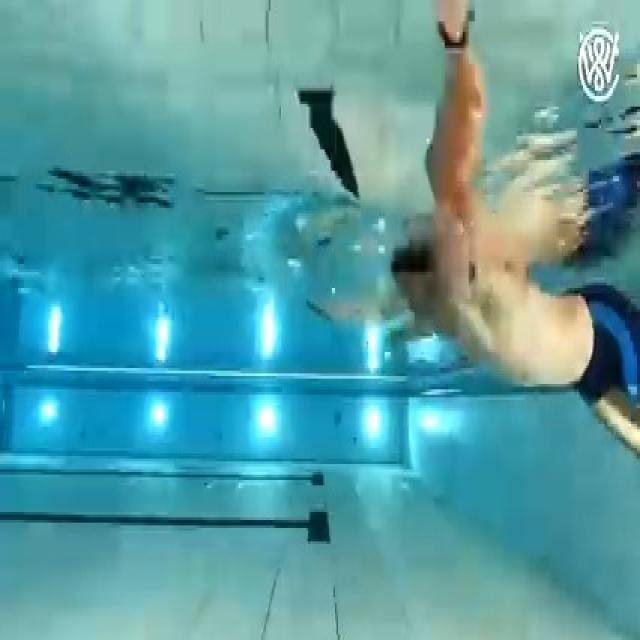Swimming: (376, 235, 640, 460)
